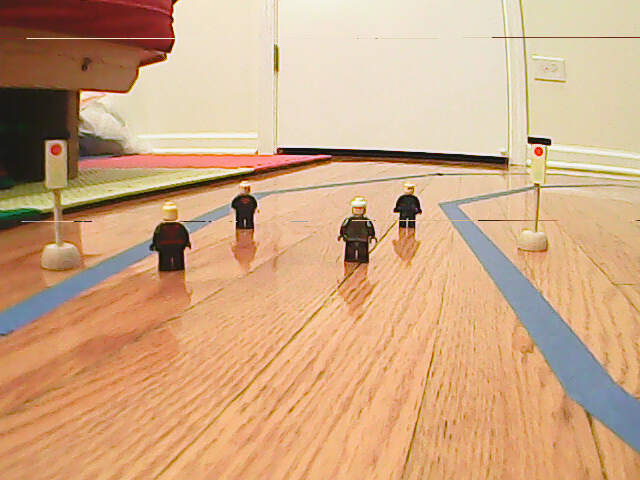Person: (333, 195, 379, 267), (151, 202, 194, 274), (394, 183, 424, 233), (231, 179, 258, 233)
Red Traffic Light: (42, 131, 74, 193), (528, 135, 551, 191)
